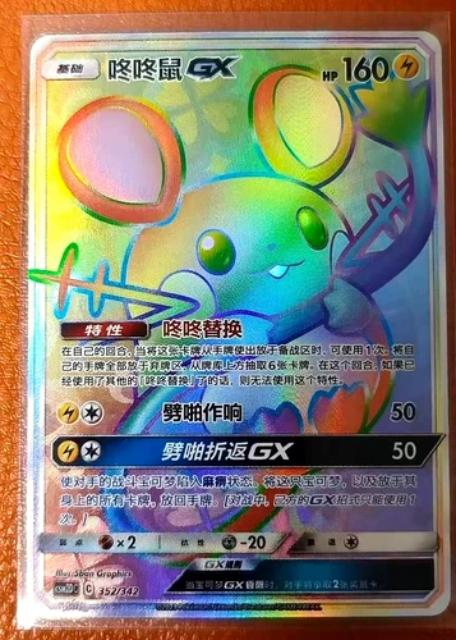Card: (20, 25, 456, 621)
Name: (103, 52, 251, 87)
